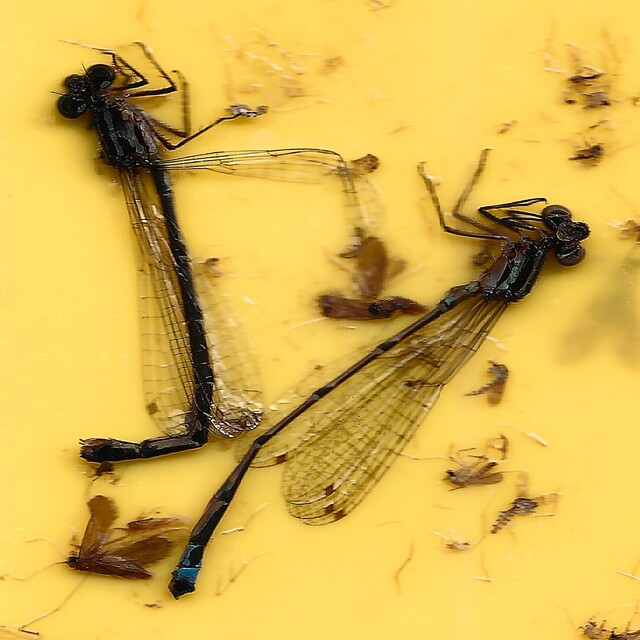Nematocera: (490, 472, 562, 536), (462, 363, 508, 408), (443, 458, 507, 490)
Odonata: (168, 147, 592, 601), (48, 39, 392, 463)
Trichoptera: (317, 237, 432, 321)
